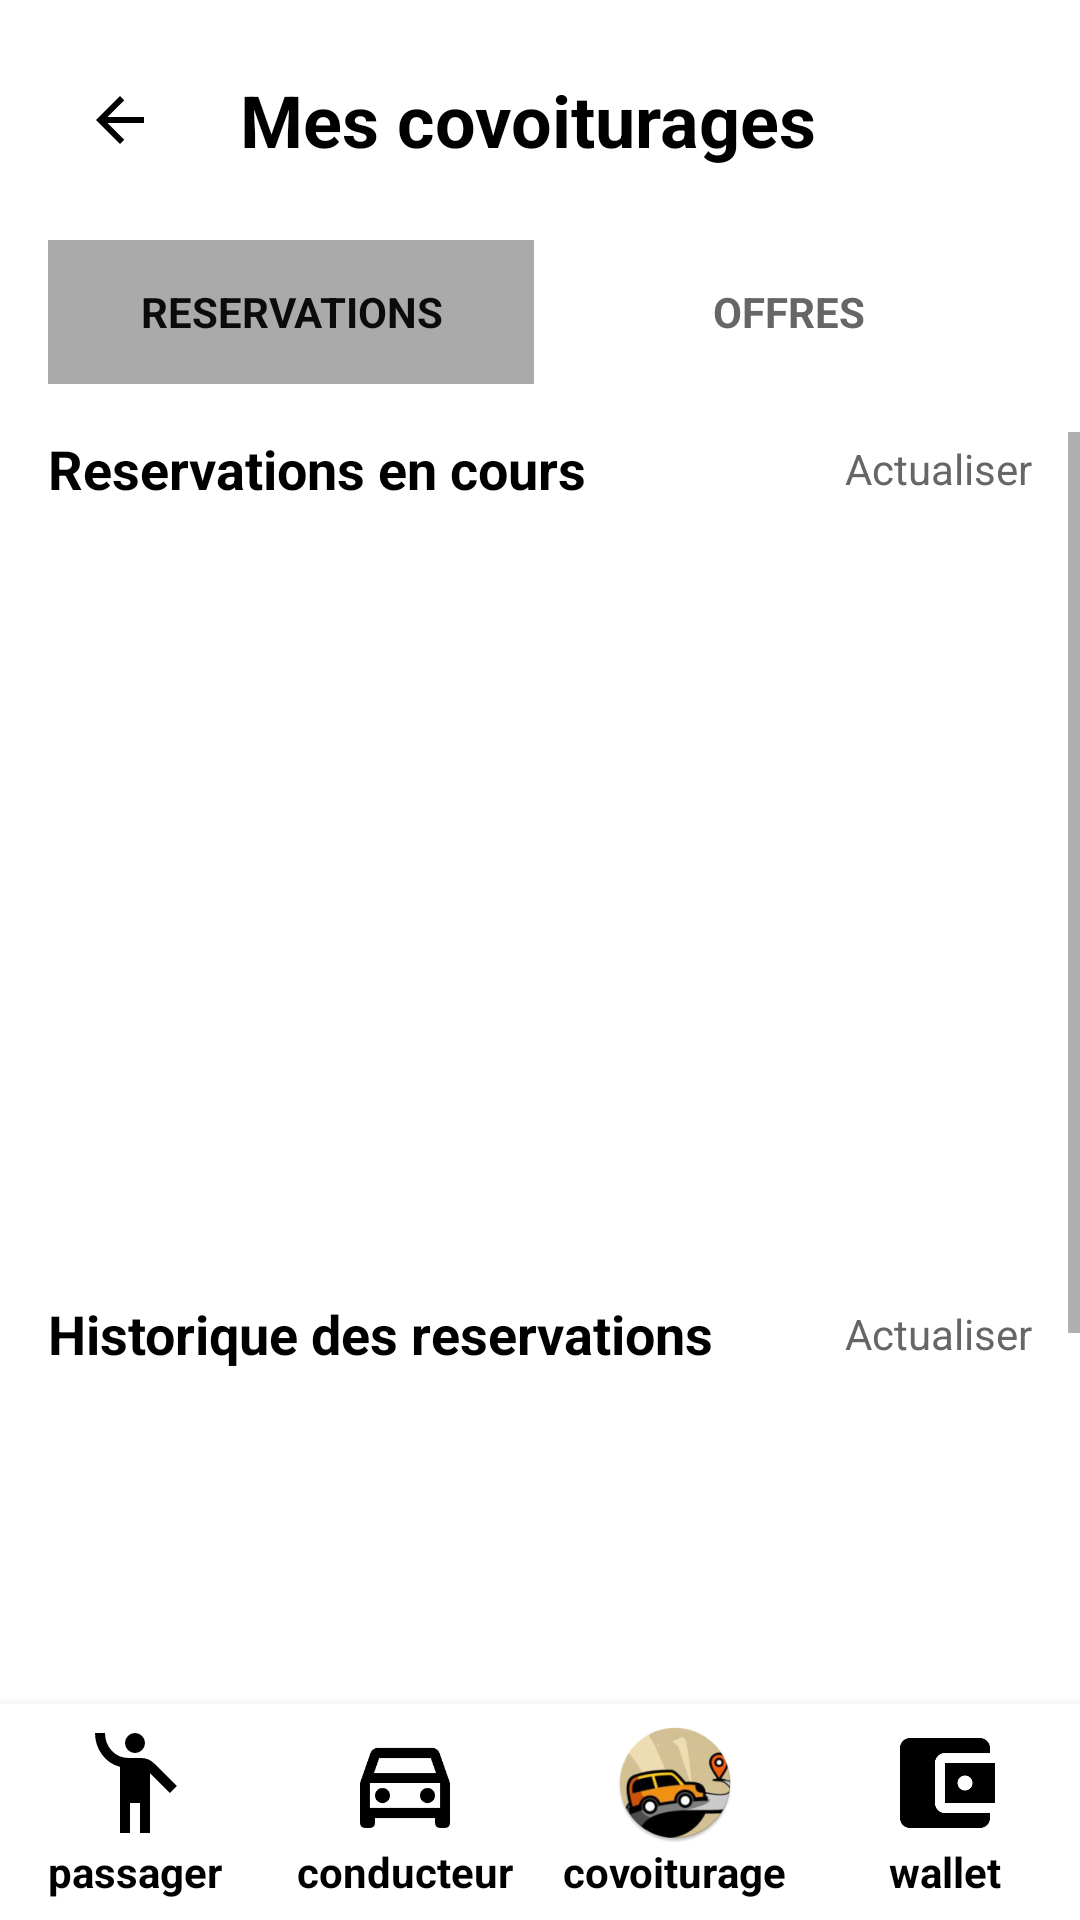

Icons on this 1080x1920 Android screen, each with its box as (x1, y1, x2, y2):
directions car: (360, 1748, 450, 1828)
Go back: (96, 96, 144, 144)
